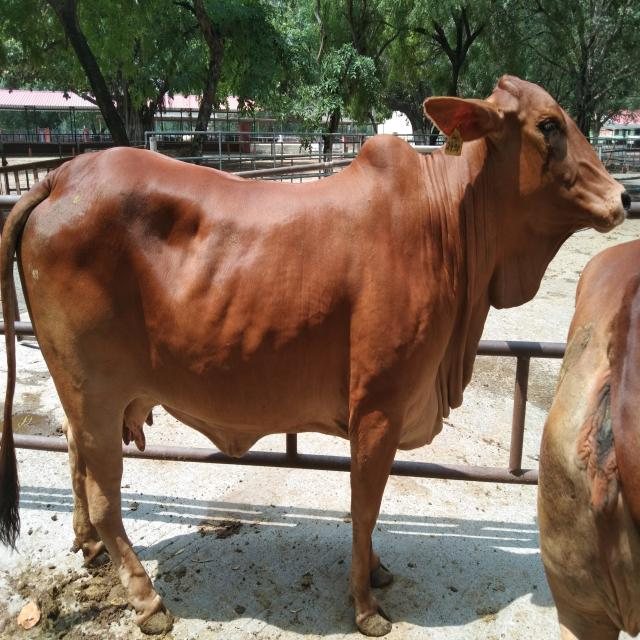cow: (0, 73, 633, 638)
hump: (357, 132, 417, 172)
